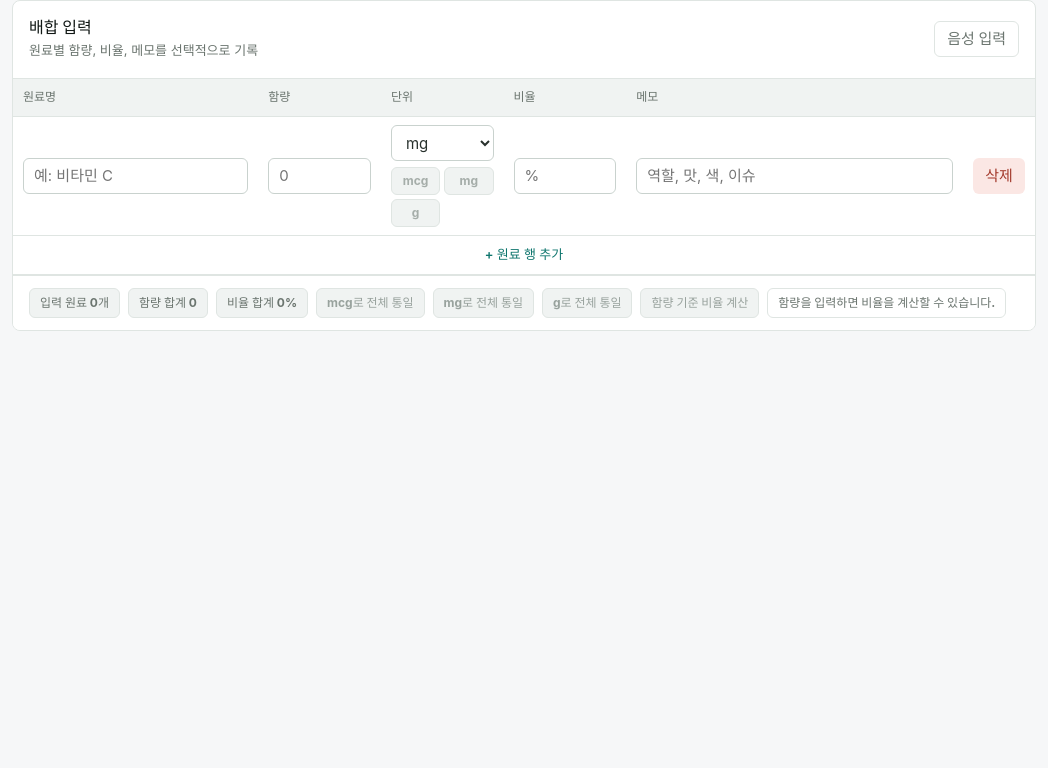
it: FormulaInputTable › opens a voice input draft guide without saving values directly
The image size is (1048, 768).
Click the button "음성 입력" at (977, 39), box [934,21,1019,57]
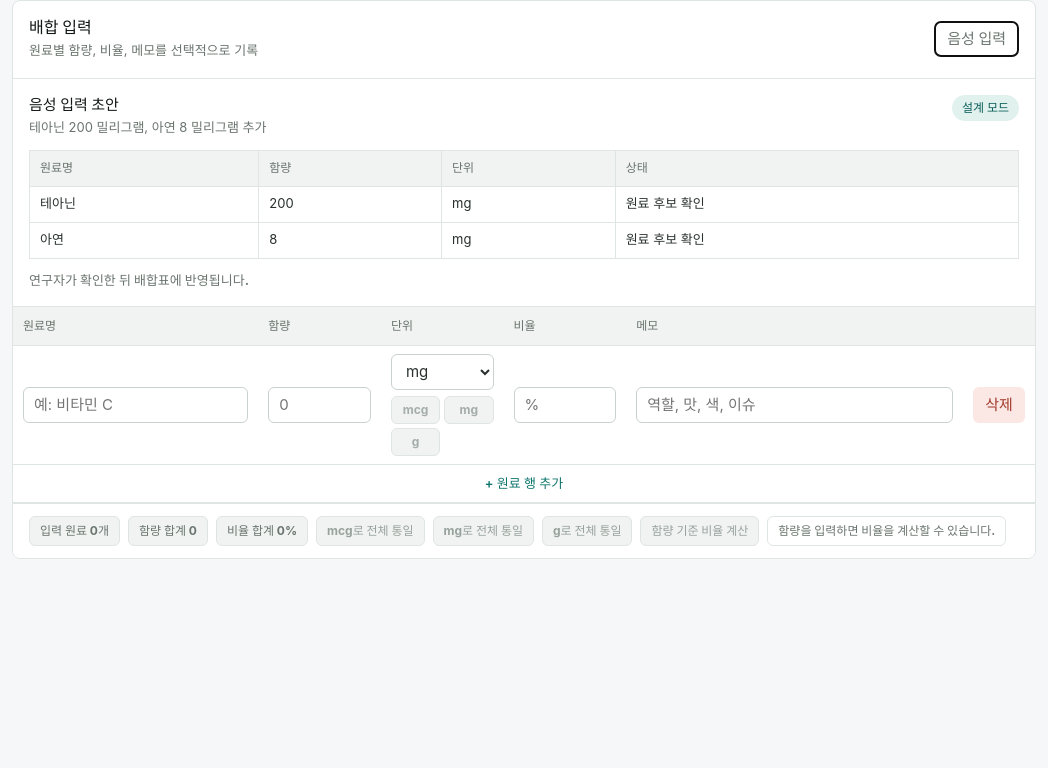
Result: the element "음성 입력 초안" is shown at [13,78,1035,307]
Result: the text "테아닌 200 밀리그램, 아연 8 밀리그램 추가" is shown at [29,118,266,138]
Result: the text "연구자가 확인한 뒤 배합표에 반영됩니다." is shown at [29,272,249,288]
